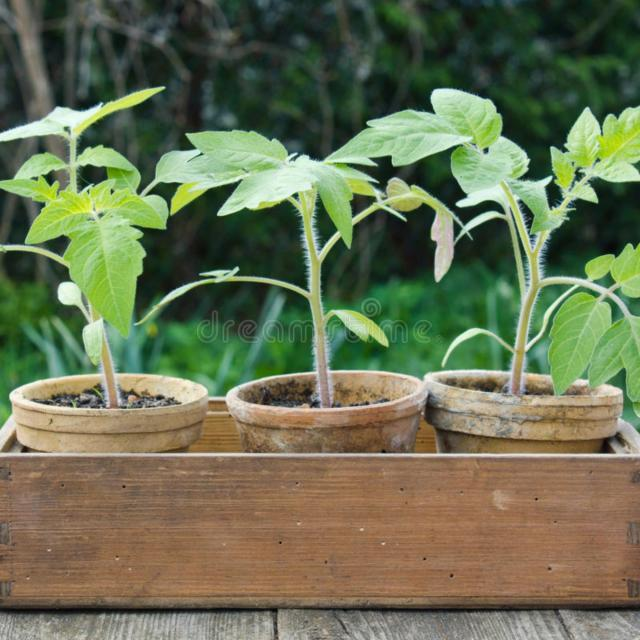tomato: (0, 88, 640, 409)
